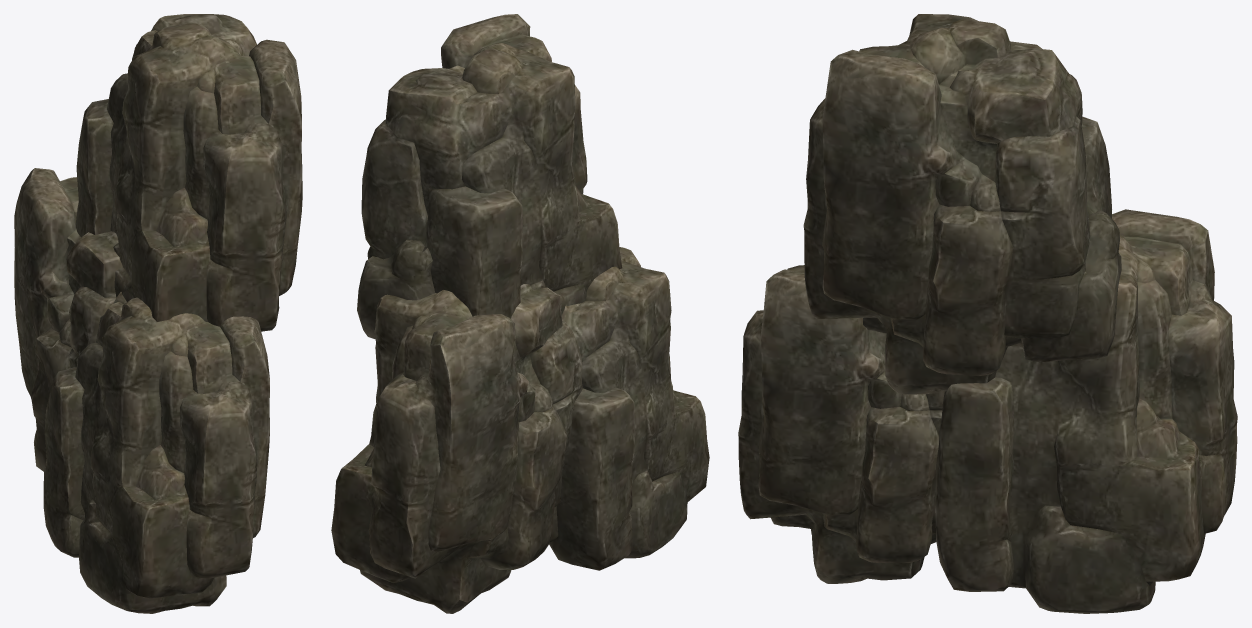
The model's file is rockcliff.glb.
3 renders of one model, left to right at view 1: azimuth 30°, elevation 25°; view 2: azimuth 150°, elevation 25°; view 3: azimuth 270°, elevation 25°, orthographic. The views are drawn at different scales.
Parts seen in each view (by area): view 1: rockcliff1, rockcliff1_2, rockcliff1_1; view 2: rockcliff1_1, rockcliff1_2, rockcliff1; view 3: rockcliff1_2, rockcliff1_1, rockcliff1.
Boxes of the visible parts, x1,y1,x2,y2 form: rockcliff1: [43, 292, 269, 613]; rockcliff1_2: [75, 14, 302, 331]; rockcliff1_1: [14, 168, 122, 471]; rockcliff1_1: [331, 284, 582, 613]; rockcliff1_2: [357, 14, 622, 339]; rockcliff1: [549, 247, 709, 570]; rockcliff1_2: [803, 14, 1121, 394]; rockcliff1_1: [932, 209, 1237, 613]; rockcliff1: [738, 265, 944, 583].
Bounding box in the file's own units: 239 × 509 × 395.
Materials: 1 (1 with a texture image).
